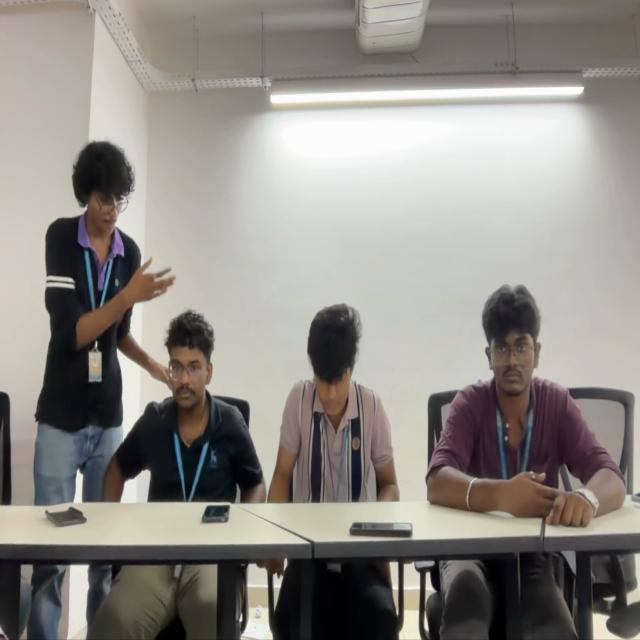Isolated: (427, 282, 628, 518), (272, 293, 401, 502)
socializing: (44, 143, 172, 368)
